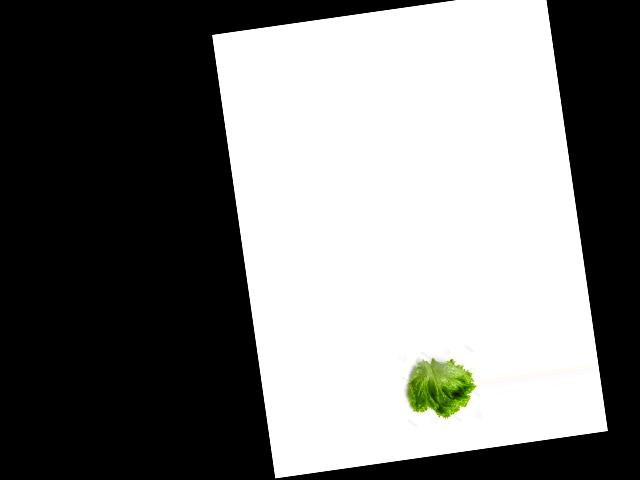lettuce: (397, 351, 480, 421)
